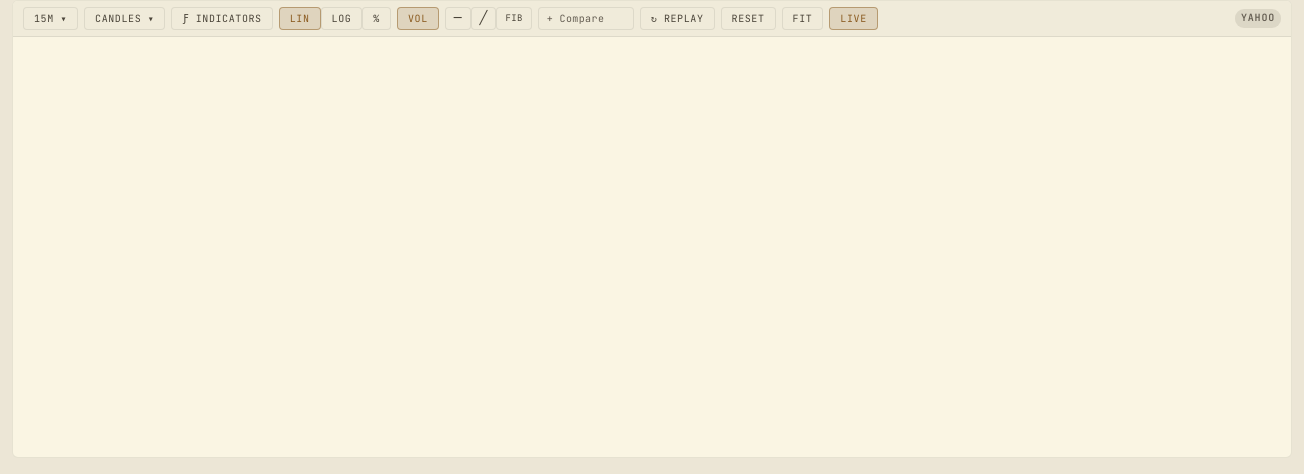
Test: Chart timeframe capability (jsdom) › disables provider-unsupported options in the picker once the source is known
Click the button with test id "sm-chart-tf-toggle" at [50, 18], box [23,7,78,30]
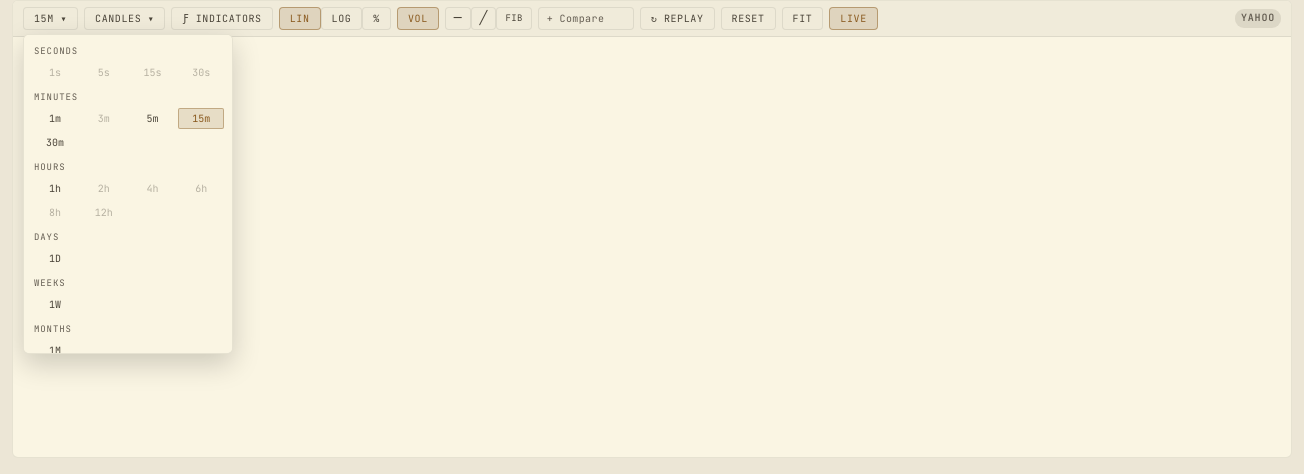
Check: the option "1s" is disabled, box [32,62,78,83]
Check: the option "1D" is enabled, box [32,248,78,269]
